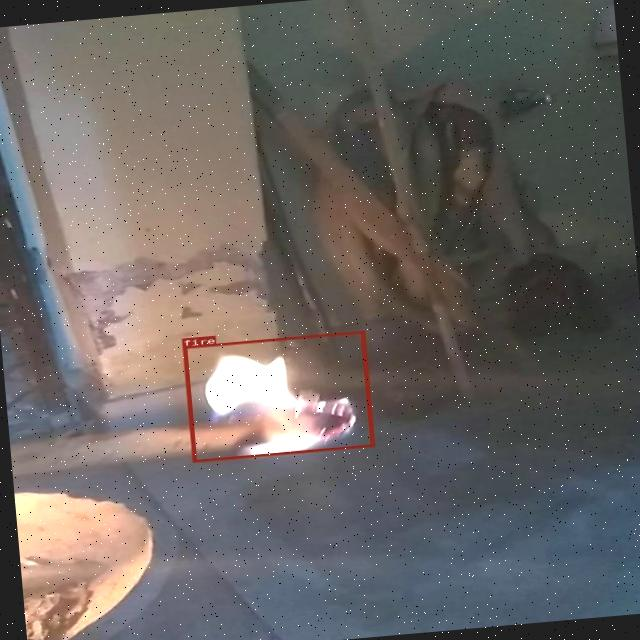fire: (182, 331, 372, 462)
